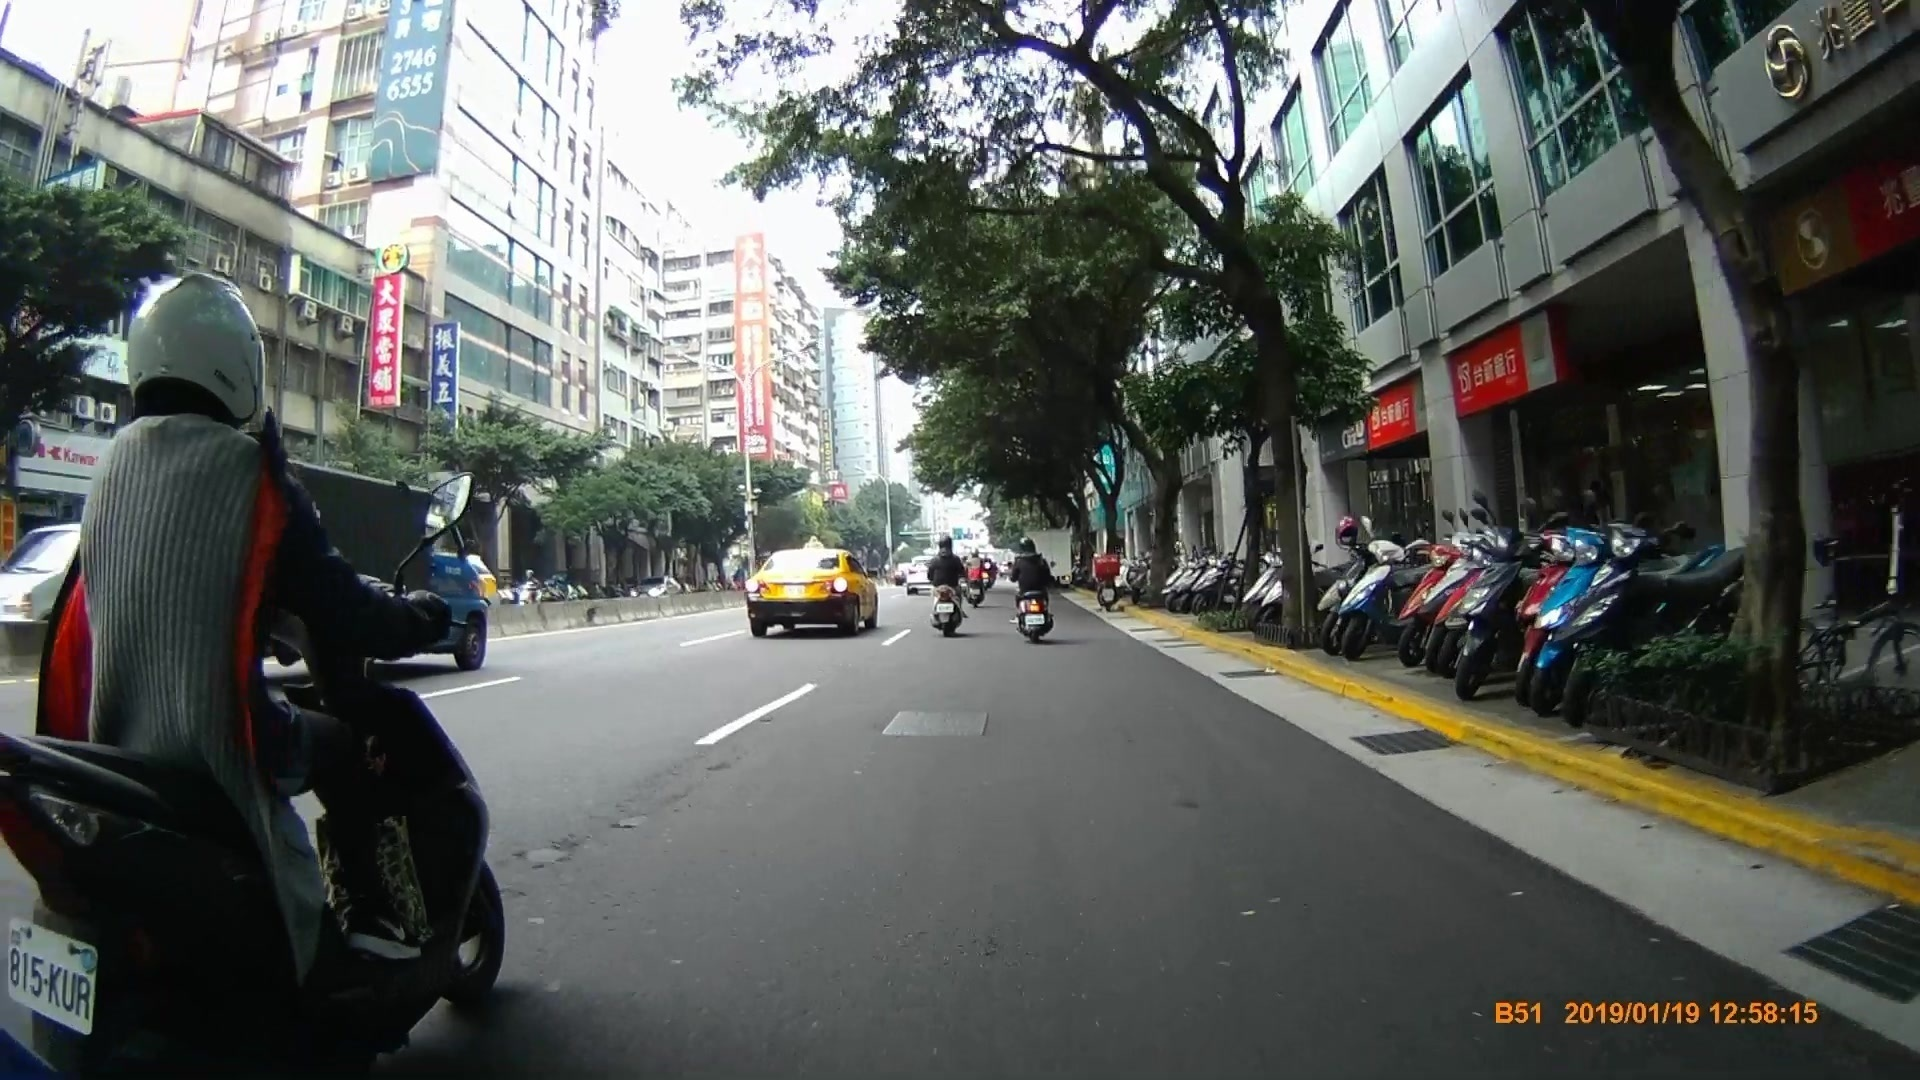License_plate: (6, 917, 97, 1037), (778, 583, 810, 598)
